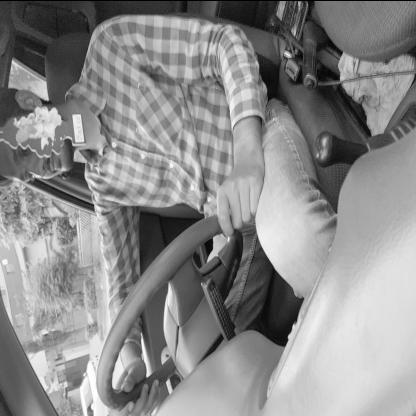no_seatbelt: (0, 80, 193, 226)
